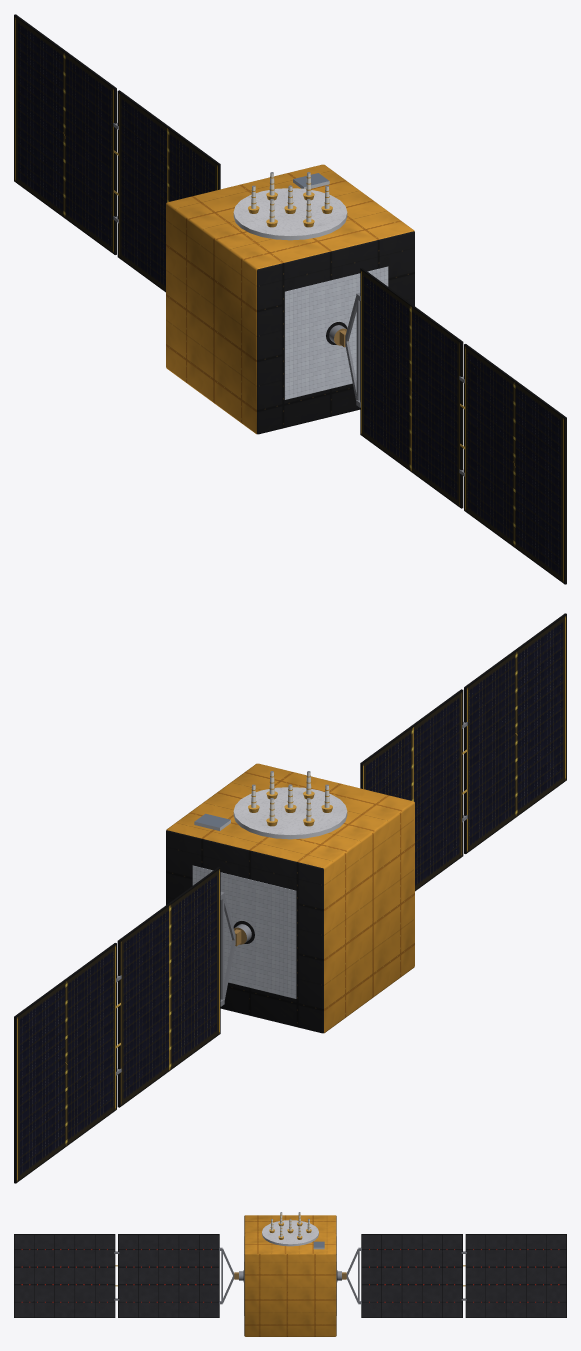
The model's file is generic.glb.
The picture shows the model from 3 angles, top to bottom: view 1: azimuth 30°, elevation 25°; view 2: azimuth 150°, elevation 25°; view 3: azimuth 270°, elevation 25°; orthographic projection. The views are drawn at different scales.
Parts seen in each view (by area): view 1: bus, wing-Y, wing+Y, nadir_antenna_deck; view 2: bus, wing+Y, wing-Y, nadir_antenna_deck; view 3: wing+Y, wing-Y, bus, nadir_antenna_deck.
Boxes of the visible parts, box(x1,y1,x2,y2) form: bus: box(166, 164, 414, 434); wing-Y: box(339, 268, 566, 584); wing+Y: box(14, 14, 220, 292); nadir_antenna_deck: box(233, 172, 347, 240); bus: box(166, 763, 414, 1033); wing+Y: box(14, 867, 241, 1183); wing-Y: box(360, 613, 566, 891); nadir_antenna_deck: box(194, 771, 347, 839); wing+Y: box(342, 1234, 566, 1317); wing-Y: box(14, 1234, 238, 1317); bus: box(244, 1215, 336, 1336); nadir_antenna_deck: box(262, 1212, 324, 1249).
Size of the model in its own units: 2 by 2.44 by 12.
Materials: 14 (6 with a texture image).
